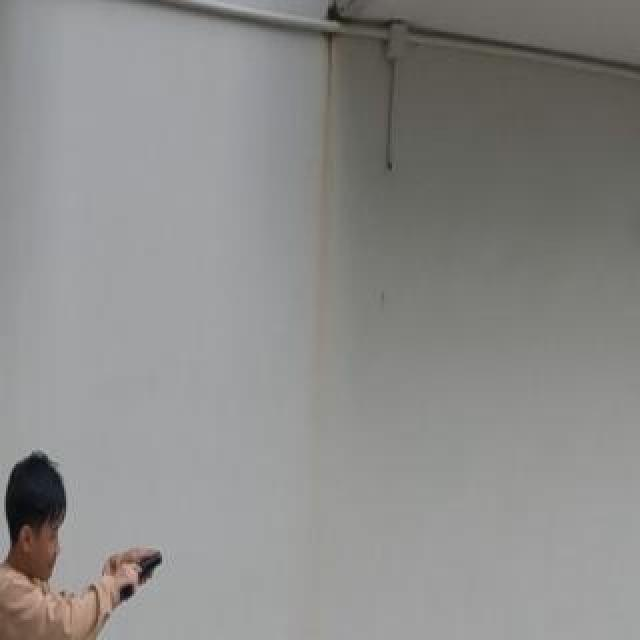Guns: (101, 540, 176, 616)
